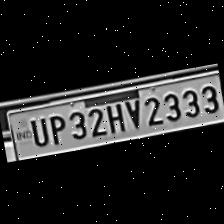2: (139, 90, 163, 126), (84, 102, 106, 136)
3: (64, 105, 88, 140), (176, 83, 200, 118), (158, 88, 182, 122), (196, 80, 220, 114)
H: (102, 99, 126, 134)
P: (44, 110, 68, 144)
U: (25, 114, 48, 148)
V: (120, 95, 142, 130)
